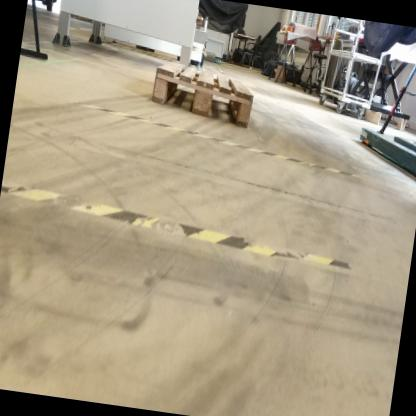BoxFace: (148, 56, 257, 132)
